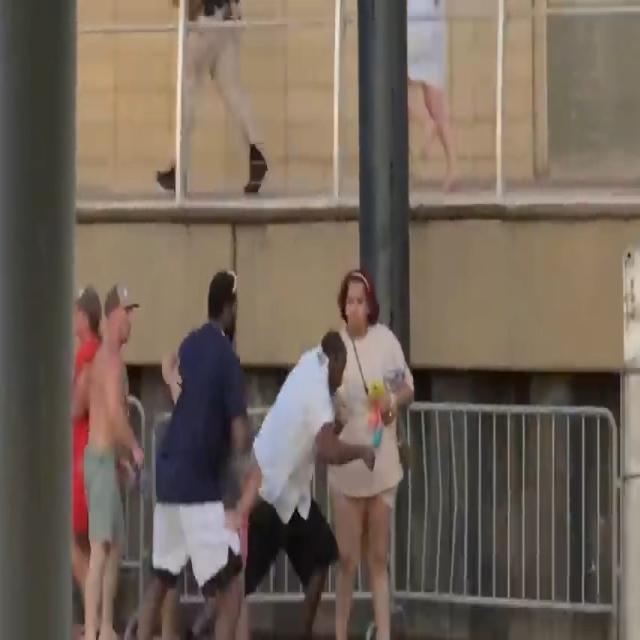fight: (247, 262, 413, 640)
non-fight: (72, 258, 244, 640)
